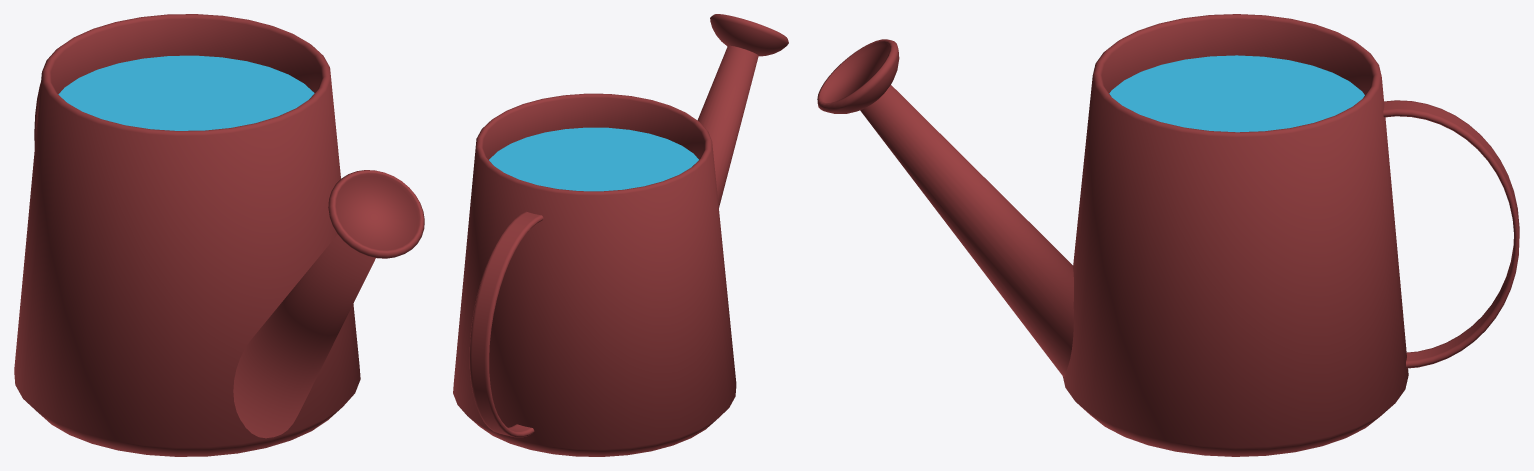
Rendered from watering-can.fbx.
3 views of the same model, side by side, from view 1: azimuth 30°, elevation 25°; view 2: azimuth 150°, elevation 25°; view 3: azimuth 270°, elevation 25° (orthographic). The views are drawn at different scales.
Visible parts, largest first — view 1: watering can; view 2: watering can; view 3: watering can.
Boxes of the visible parts, left/top/right/bottom form: watering can: left=14, top=14, right=424, bottom=456; watering can: left=453, top=14, right=788, bottom=456; watering can: left=817, top=14, right=1519, bottom=456.
Bounding box in the file's own units: 198 × 218 × 401.
